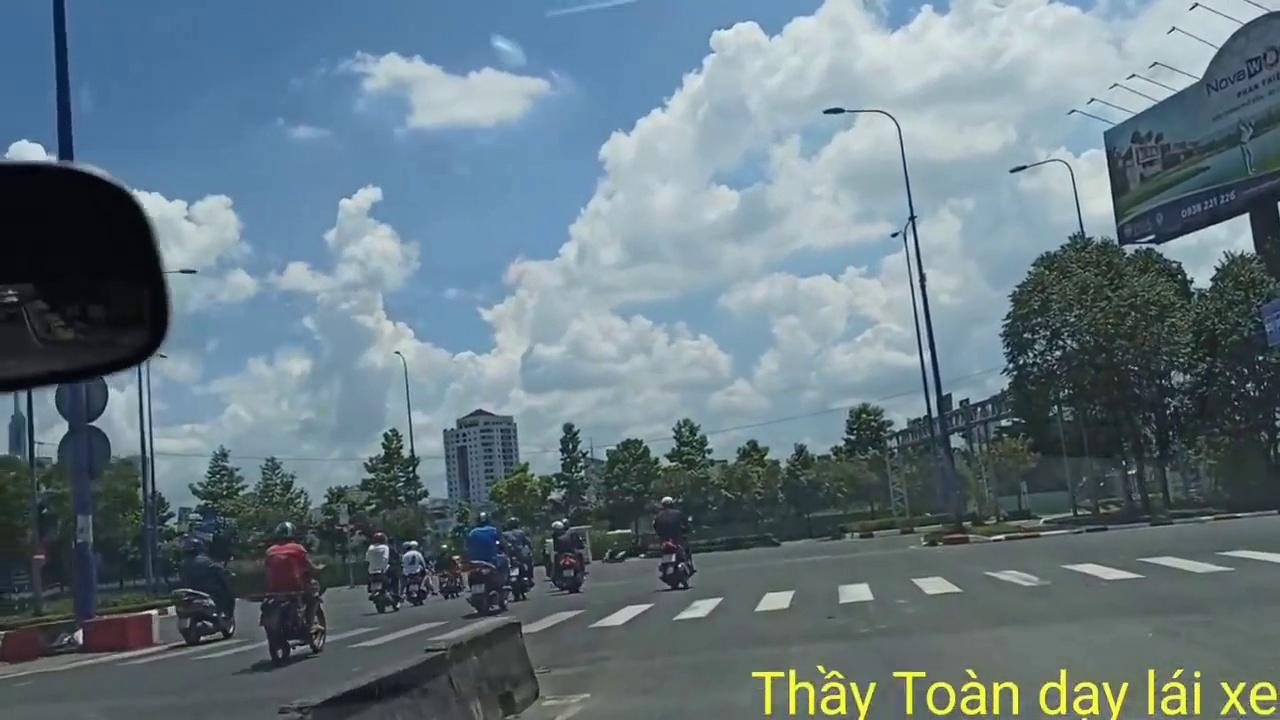Cấm đi ngược chiều: (28, 543, 49, 569)
